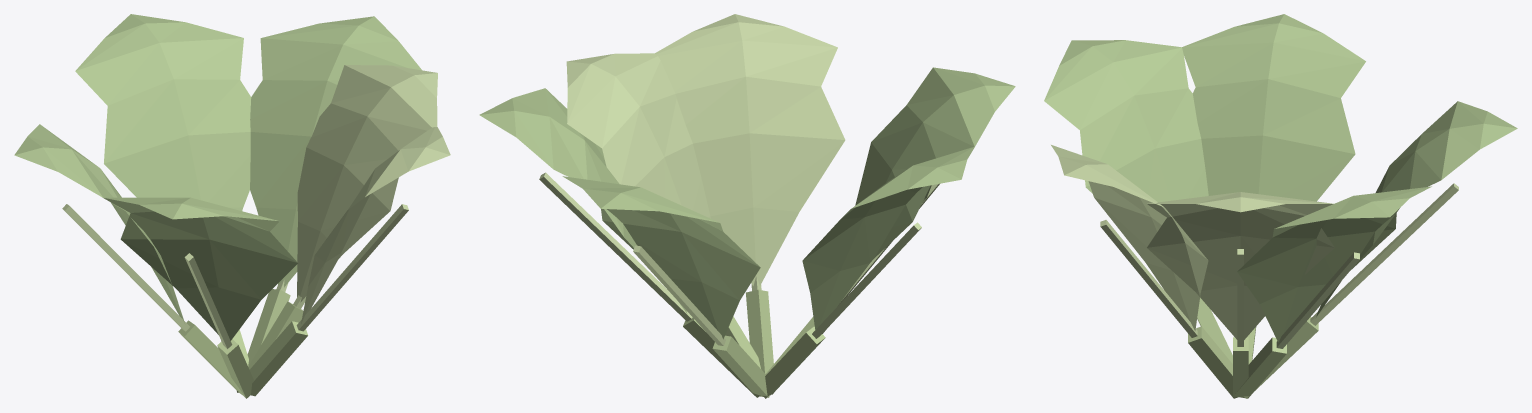
The model's file is crafted-crop-turnip-2.glb.
The picture shows the model from 3 angles, left to right: view 1: azimuth 30°, elevation 25°; view 2: azimuth 150°, elevation 25°; view 3: azimuth 270°, elevation 25°; orthographic projection. The views are drawn at different scales.
Parts seen in each view (by area): view 1: turnip-leaf-2, turnip-leaf, turnip-leaf-5, turnip-leaf-1, turnip-leaf-3, turnip-leaf-4, leaf-stalk-3, leaf-vein-3, leaf-vein-4, leaf-stalk-5, leaf-stalk-4, leaf-stalk-1 (+2 smaller); view 2: turnip-leaf-3, turnip-leaf, turnip-leaf-2, turnip-leaf-1, turnip-leaf-4, turnip-leaf-5, leaf-vein-5, leaf-stalk-3, leaf-stalk-2, leaf-stalk-4, leaf-vein-2, leaf-vein-4 (+2 smaller); view 3: turnip-leaf-4, turnip-leaf-1, turnip-leaf, turnip-leaf-5, turnip-leaf-3, turnip-leaf-2, leaf-vein-2, leaf-vein-3, leaf-stalk-3, leaf-stalk-5, leaf-vein-5, leaf-stalk-1 (+3 smaller).
Boxes of the visible parts, x1,y1,x2,y2 form: turnip-leaf-2: (75, 14, 251, 210); turnip-leaf: (297, 65, 437, 302); turnip-leaf-5: (250, 16, 421, 287); turnip-leaf-1: (103, 197, 297, 340); turnip-leaf-3: (301, 127, 450, 323); turnip-leaf-4: (14, 124, 184, 323); leaf-stalk-3: (249, 321, 308, 396); leaf-vein-3: (296, 204, 408, 331); leaf-vein-4: (62, 204, 189, 331); leaf-stalk-5: (247, 289, 290, 365); leaf-stalk-4: (178, 320, 244, 396); leaf-stalk-1: (217, 339, 253, 398); turnip-leaf-3: (655, 14, 845, 285); turnip-leaf: (566, 53, 710, 218); turnip-leaf-2: (562, 176, 760, 339); turnip-leaf-1: (855, 67, 1015, 258); turnip-leaf-4: (802, 146, 974, 331); turnip-leaf-5: (479, 88, 687, 313); leaf-vein-5: (539, 172, 692, 321); leaf-stalk-3: (746, 289, 773, 373); leaf-stalk-2: (712, 335, 769, 397); leaf-stalk-4: (763, 326, 825, 398); leaf-vein-2: (633, 245, 725, 345); leaf-vein-4: (812, 222, 921, 338); turnip-leaf-4: (1182, 14, 1365, 201); turnip-leaf-1: (1044, 40, 1208, 202); turnip-leaf: (1147, 192, 1334, 339); turnip-leaf-5: (1237, 186, 1431, 342); turnip-leaf-3: (1051, 145, 1208, 330); turnip-leaf-2: (1316, 101, 1517, 317); leaf-vein-2: (1310, 183, 1458, 325); leaf-vein-3: (1100, 220, 1197, 337); leaf-stalk-3: (1188, 326, 1238, 398); leaf-stalk-5: (1234, 337, 1286, 398); leaf-vein-5: (1276, 252, 1359, 348); leaf-stalk-1: (1197, 297, 1232, 363).
Bounding box in the file's own units: 0.4325 × 0.2798 × 0.4259.
